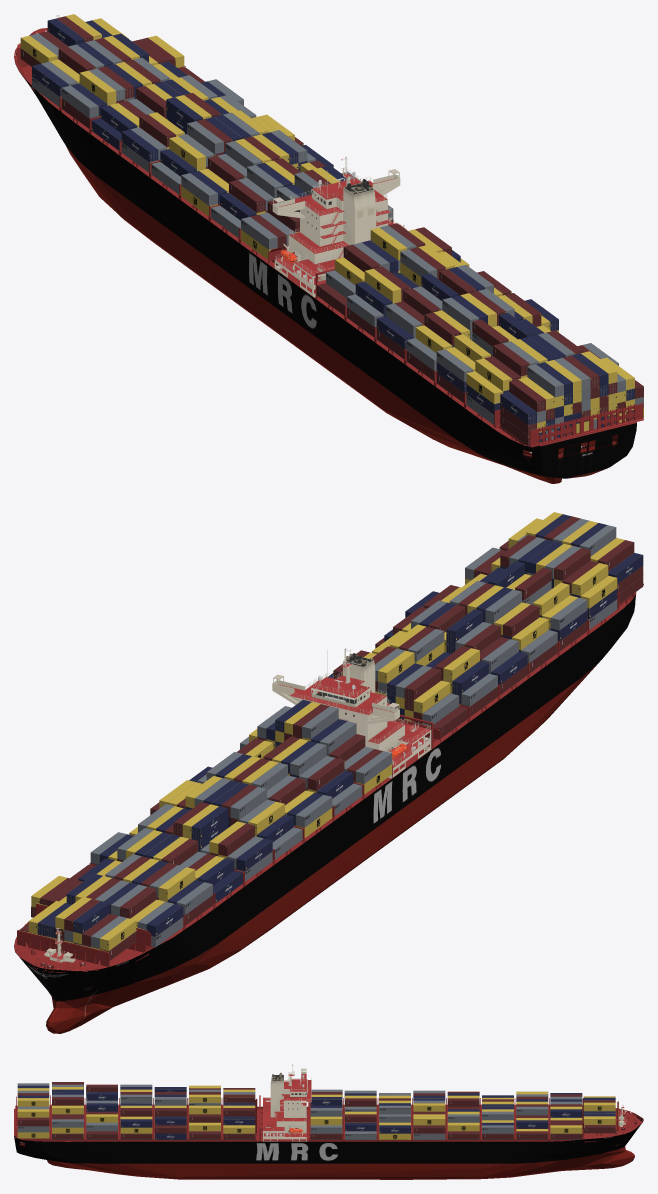
File: boxship.glb
3 renders of one model, top to bottom at view 1: azimuth 30°, elevation 25°; view 2: azimuth 150°, elevation 25°; view 3: azimuth 270°, elevation 25°, orthographic. The views are drawn at different scales.
Bounding box in the file's own units: 32.09 × 44.94 × 243.
3 materials, 3 textured.
